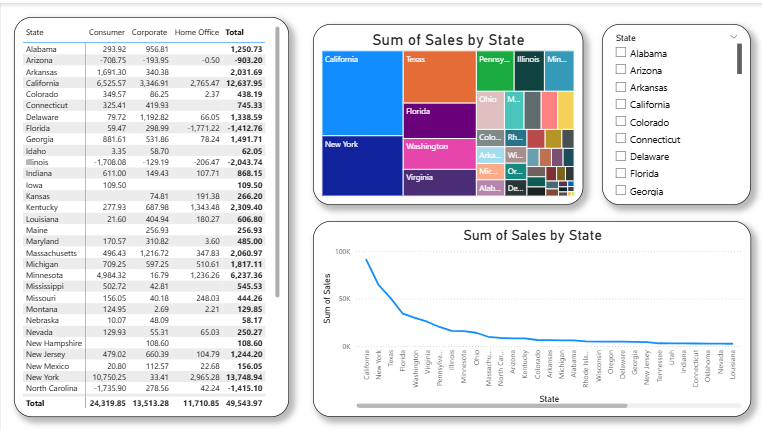

What the dashboard file says about the page in this screenshot:
{"tool":"powerbi","page":{"name":"File","canvas":[1280,720],"ordinal":2},"visuals":[{"type":"treemap","fields":{"Values":["Sum(Sheet1.Sales)"],"Group":["Sheet1.State"]},"box":[524.1,35.3,453.5,304],"z":0},{"type":"slicer","fields":{"Values":["Sheet1.State"]},"box":[1009.6,35.3,250.3,304],"z":1000},{"type":"pivotTable","fields":{"Rows":["Sheet1.State"],"Columns":["Sheet1.Segment"],"Values":["Sum(Sheet1.Profit)"]},"box":[21.8,23.5,461.9,671.9],"z":2000},{"type":"lineChart","fields":{"Y":["Sum(Sheet1.Sales)"],"Category":["Sheet1.State"]},"box":[524.1,366.2,735.7,329.2],"z":3000}]}

Visuals, with their boxes in screenshot pixels (x1, y1, x2, y2), scaled from the page's 1280x720 canvas onto the 762x430 screenshot:
treemap - Sum(Sheet1.Sales) x Sheet1.State: l=312, t=21, r=582, b=203
slicer - Sheet1.State: l=601, t=21, r=750, b=203
pivotTable - Sheet1.State x Sheet1.Segment: l=13, t=14, r=288, b=415
lineChart - Sum(Sheet1.Sales) x Sheet1.State: l=312, t=219, r=750, b=415
